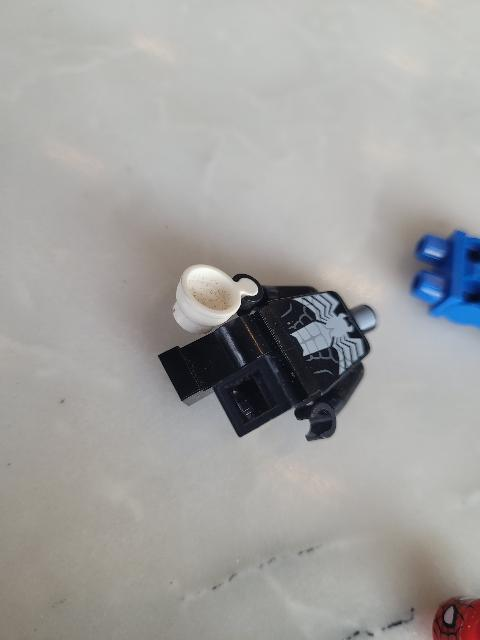Plastik: (158, 262, 383, 444), (410, 226, 480, 337), (430, 590, 480, 640)
